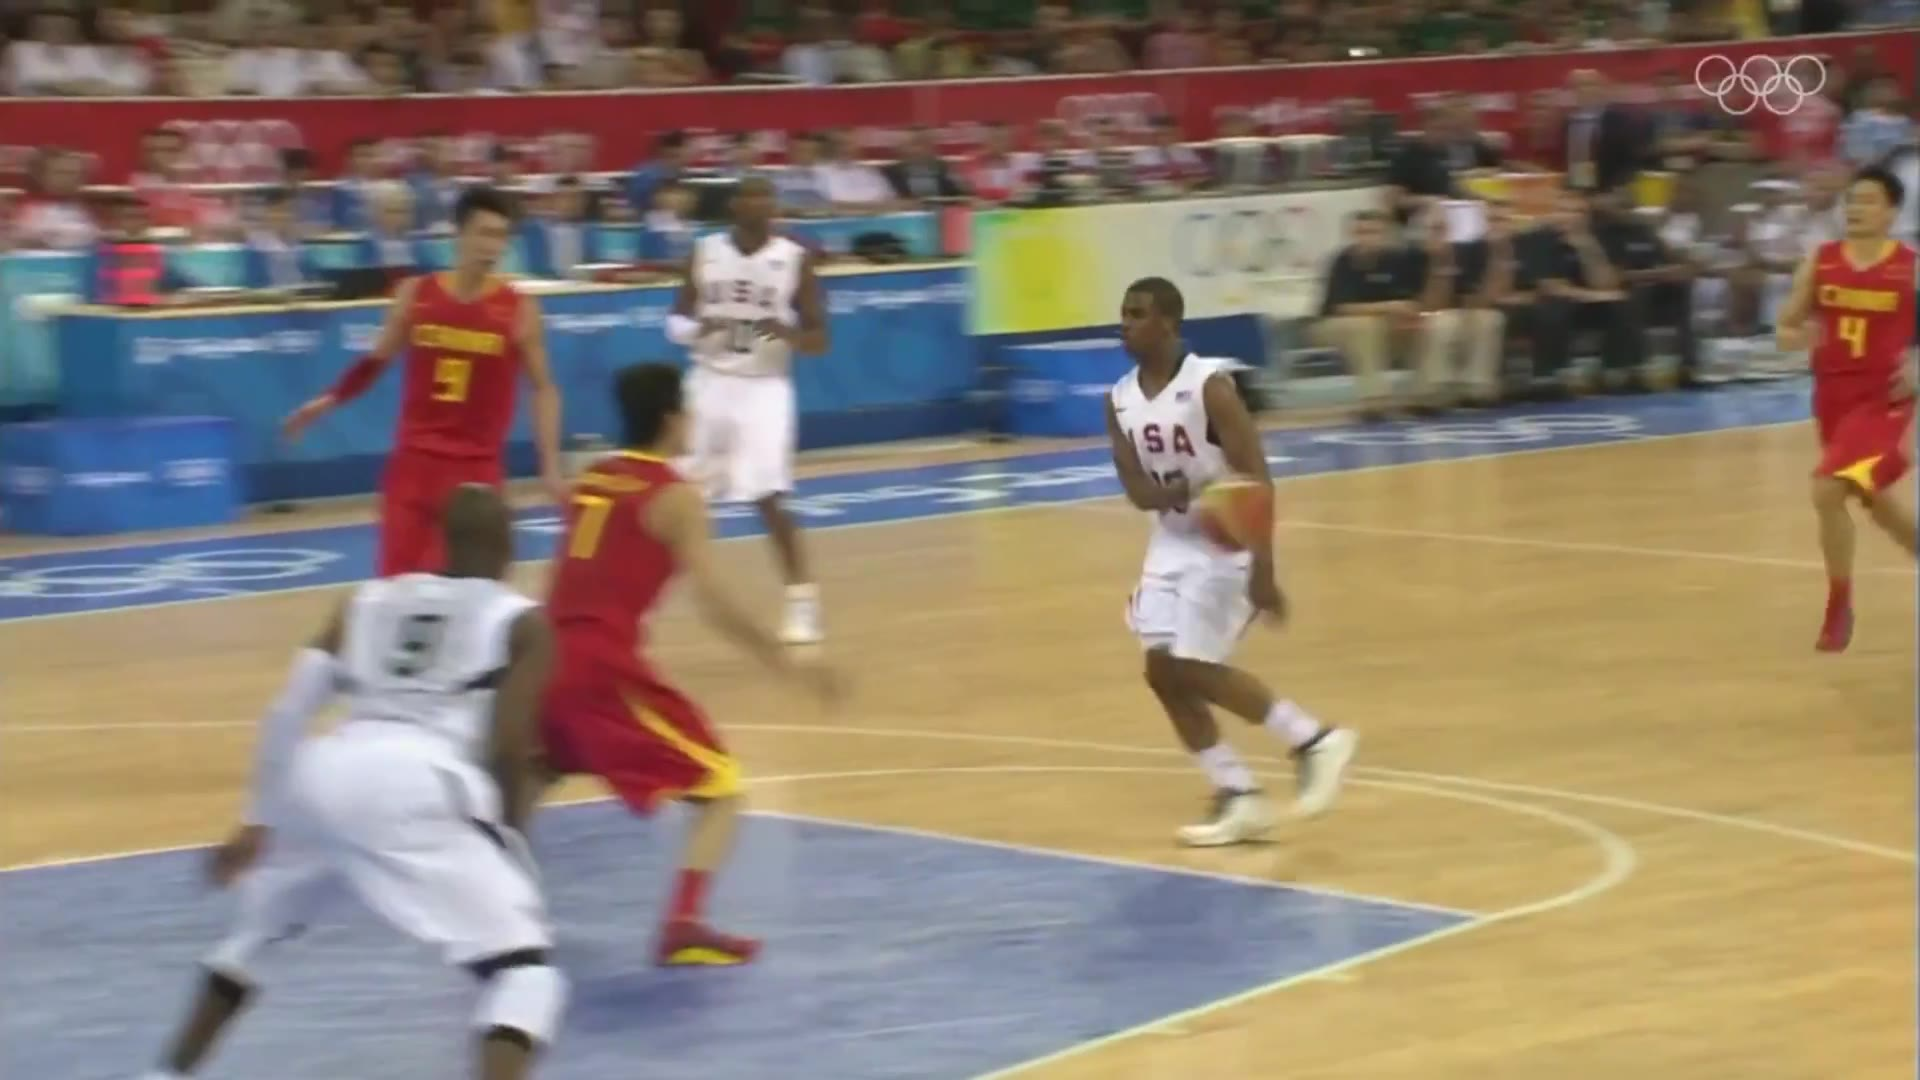ball: (1183, 460, 1282, 570)
